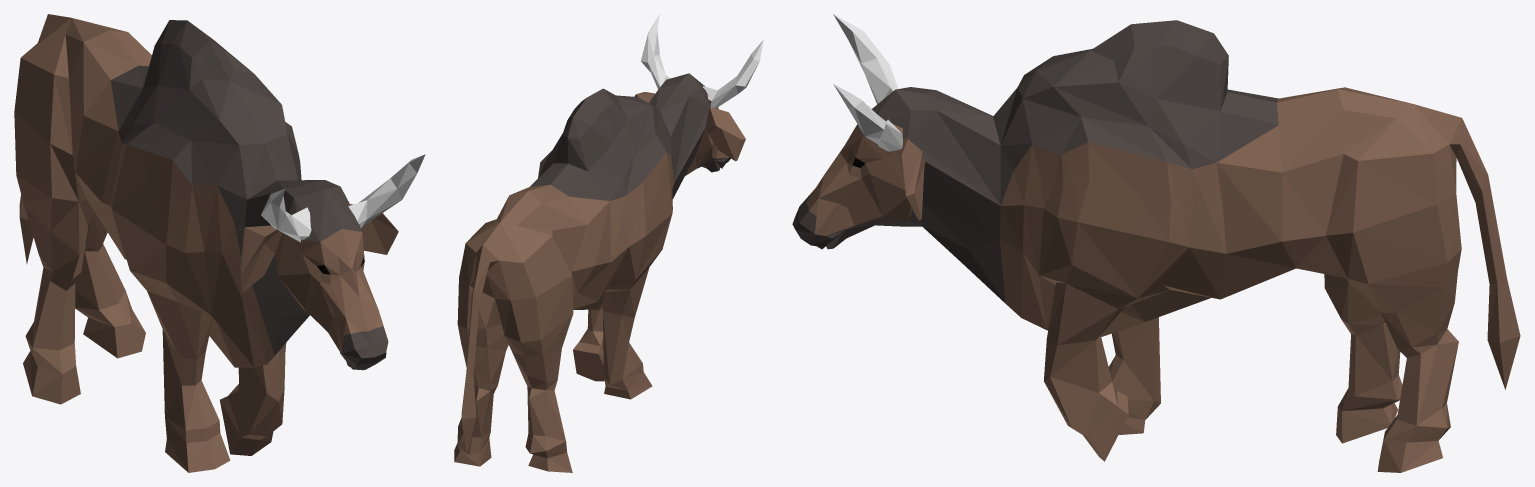
Rendered from toro_1.obj.
3 renders of one model, left to right at view 1: azimuth 30°, elevation 25°; view 2: azimuth 150°, elevation 25°; view 3: azimuth 270°, elevation 25°, orthographic. The views are drawn at different scales.
Visible parts, largest first — view 1: Mesh1FBXASC032Model; view 2: Mesh1FBXASC032Model; view 3: Mesh1FBXASC032Model.
Part boxes in pixels (x1,y1,x2,y2): Mesh1FBXASC032Model: [14, 14, 425, 472]; Mesh1FBXASC032Model: [454, 14, 763, 472]; Mesh1FBXASC032Model: [792, 14, 1520, 472].
Bounding box in the file's own units: 244 × 632 × 949.
Materials: 1 (1 with a texture image).
